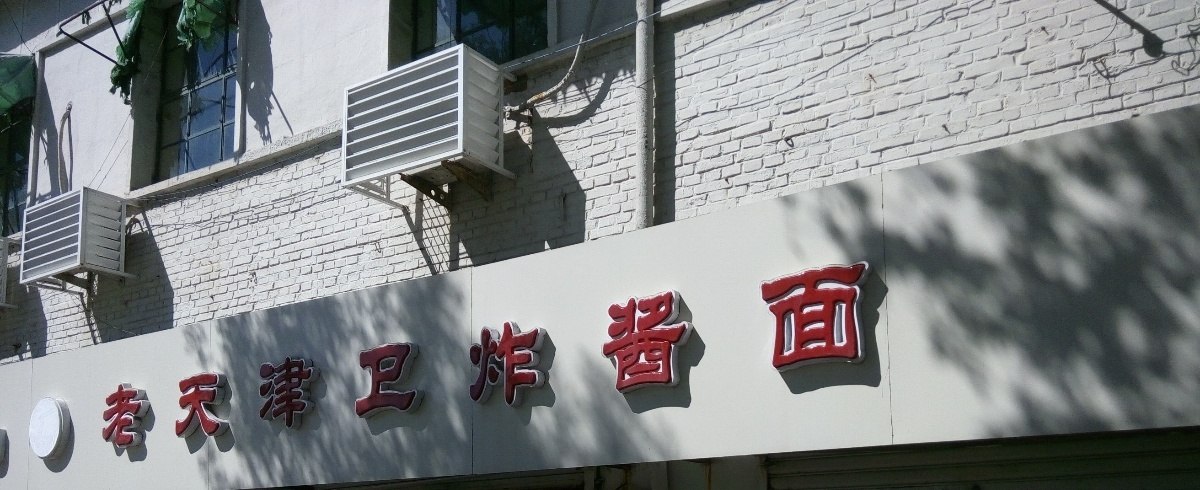text: (97, 253, 112, 463), (113, 253, 128, 463), (129, 253, 144, 463), (145, 253, 160, 463), (161, 253, 176, 463), (177, 253, 192, 463), (193, 253, 208, 463), (209, 253, 224, 463), (225, 253, 240, 463), (241, 253, 256, 463), (257, 253, 272, 463), (273, 253, 288, 463), (289, 253, 304, 463), (305, 253, 320, 463), (321, 253, 336, 463), (337, 253, 352, 463), (353, 253, 368, 463), (369, 253, 384, 463), (385, 253, 400, 463), (401, 253, 416, 463), (417, 253, 432, 463), (433, 253, 448, 463), (449, 253, 464, 463), (465, 253, 480, 463), (481, 253, 496, 463), (497, 253, 512, 463), (513, 253, 528, 463), (529, 253, 544, 463), (545, 253, 560, 463), (561, 253, 576, 463), (577, 253, 592, 463), (593, 253, 608, 463), (609, 253, 624, 463), (625, 253, 640, 463), (641, 253, 656, 463), (657, 253, 672, 463), (673, 253, 688, 463), (689, 253, 704, 463), (705, 253, 720, 463), (721, 253, 736, 463), (737, 253, 752, 463), (753, 253, 768, 463), (769, 253, 784, 463), (785, 253, 800, 463), (801, 253, 816, 463), (817, 253, 832, 463), (833, 253, 848, 463), (849, 253, 864, 463), (865, 253, 879, 463), (92, 253, 96, 463)
